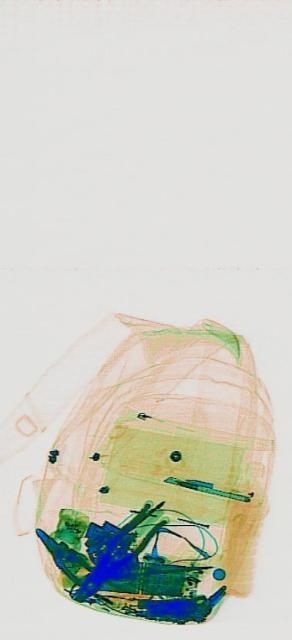Pliers: (72, 488, 164, 616), (33, 514, 92, 596)
